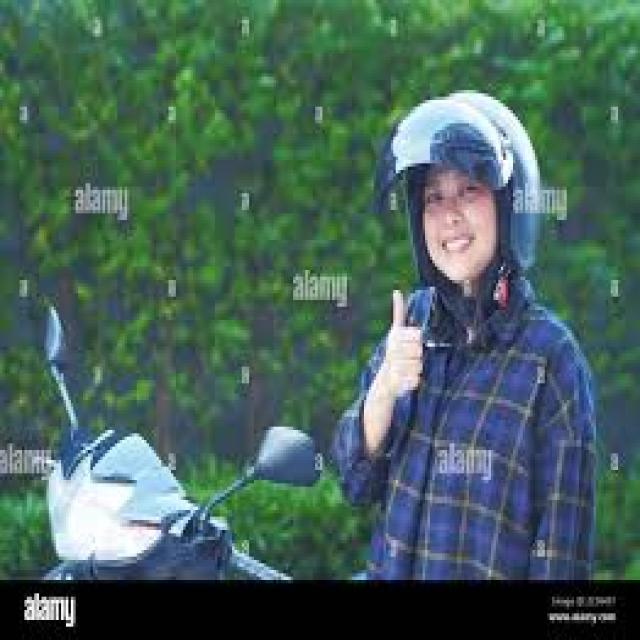WITH_HELMET: (372, 95, 540, 296)
